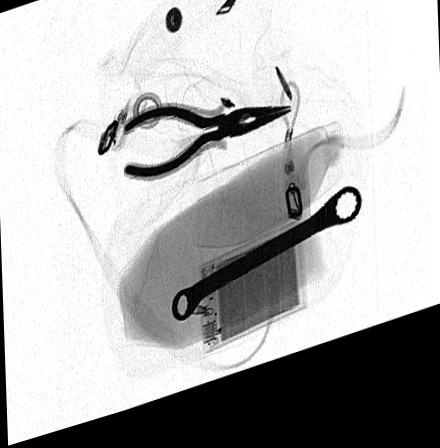Pliers: (121, 113, 292, 188)
Powerbank: (198, 231, 307, 365)
Wrench: (170, 207, 362, 333)
